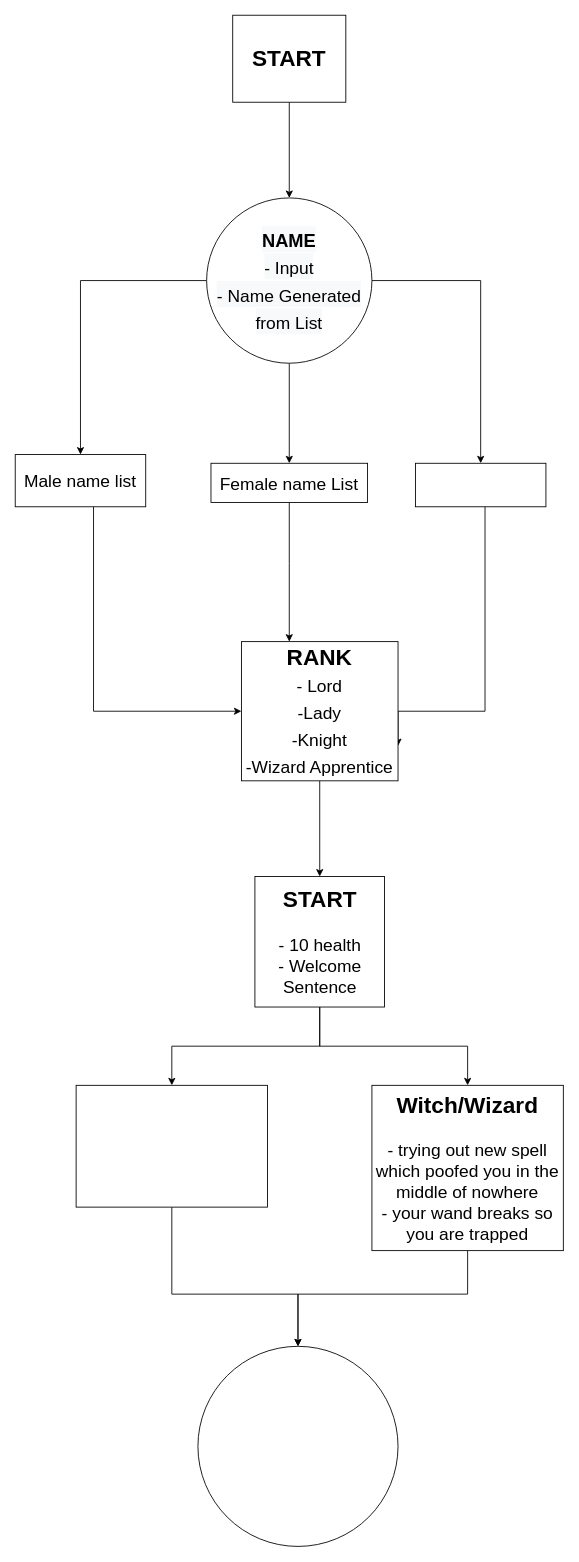
Image size: 579x1562. Some labels were removed from this diagram. Here are the shapes that lost their labels. From the top down, the box of each, then its label:
(415, 462, 546, 507): Input by User
(75, 1084, 268, 1207): Rest of characters - minding own business when POOF
(197, 1345, 398, 1546): FIRST STOP - House in middle of nowhere - what's in there? - where to after that
